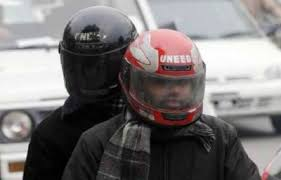helmet: (124, 17, 220, 126), (63, 4, 135, 113)
